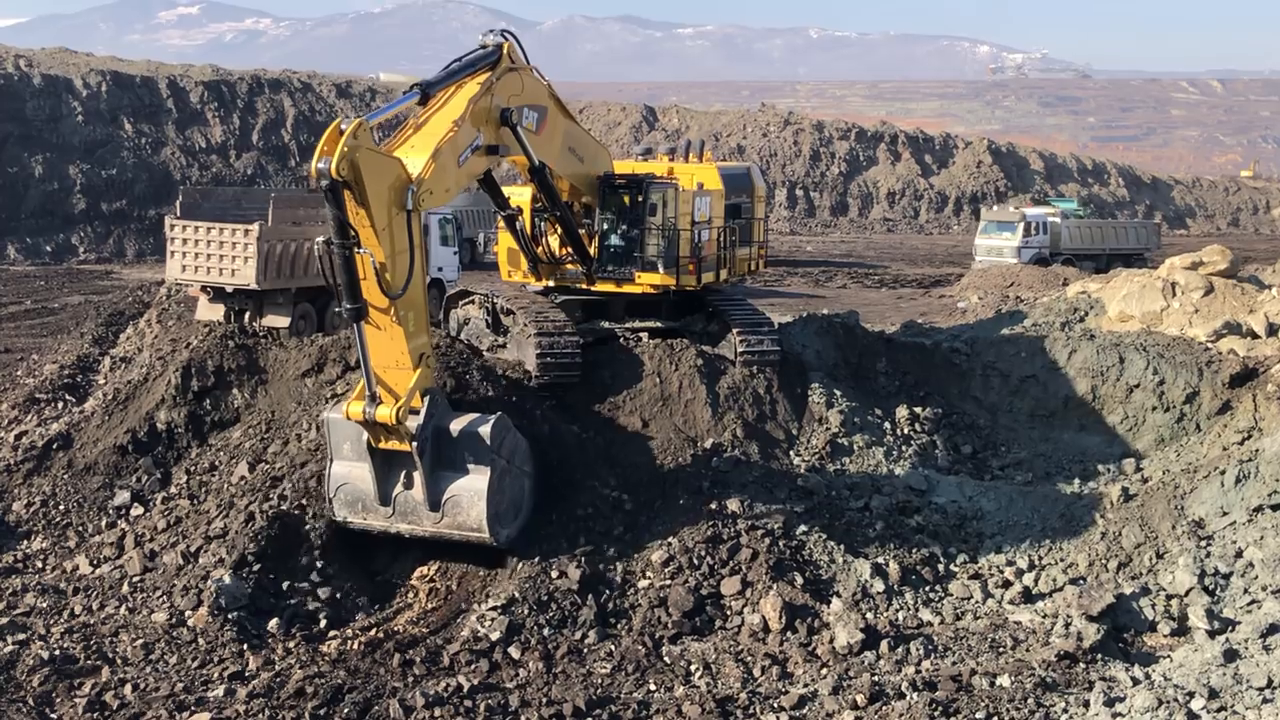full: (309, 393, 542, 556)
